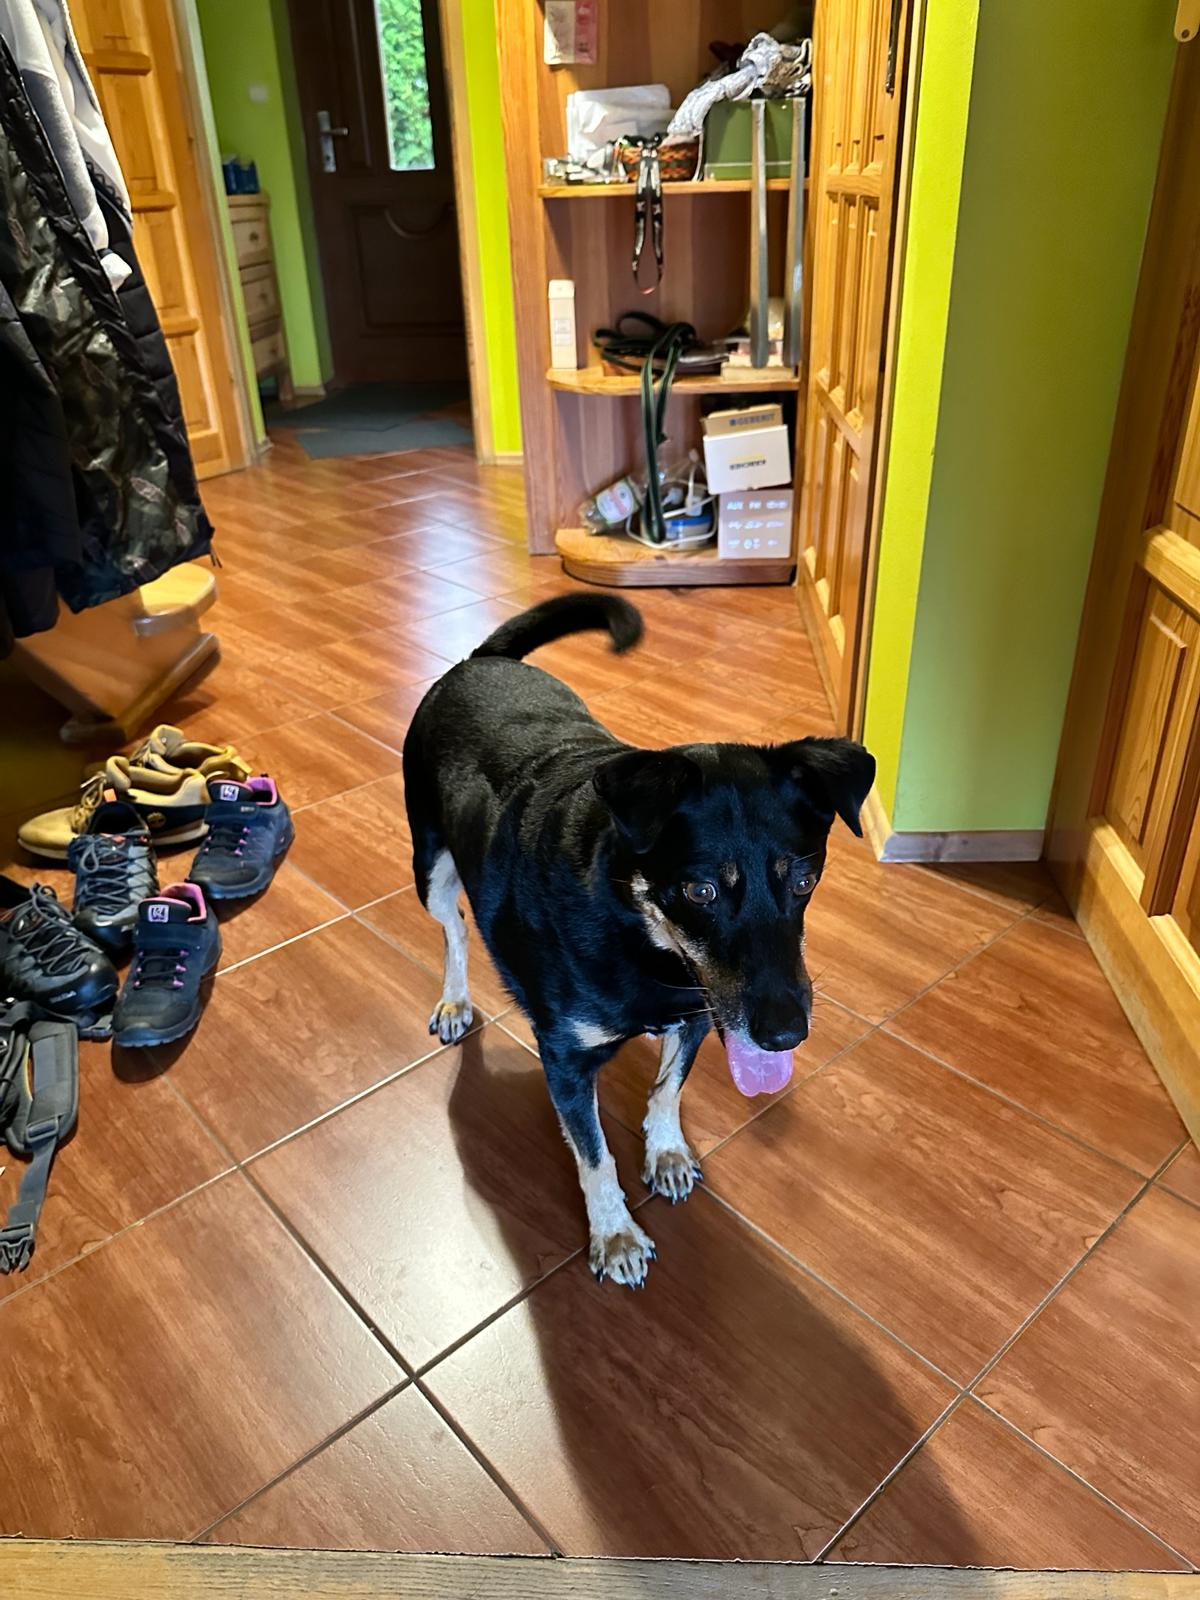reksio: (280, 567, 977, 1320)
